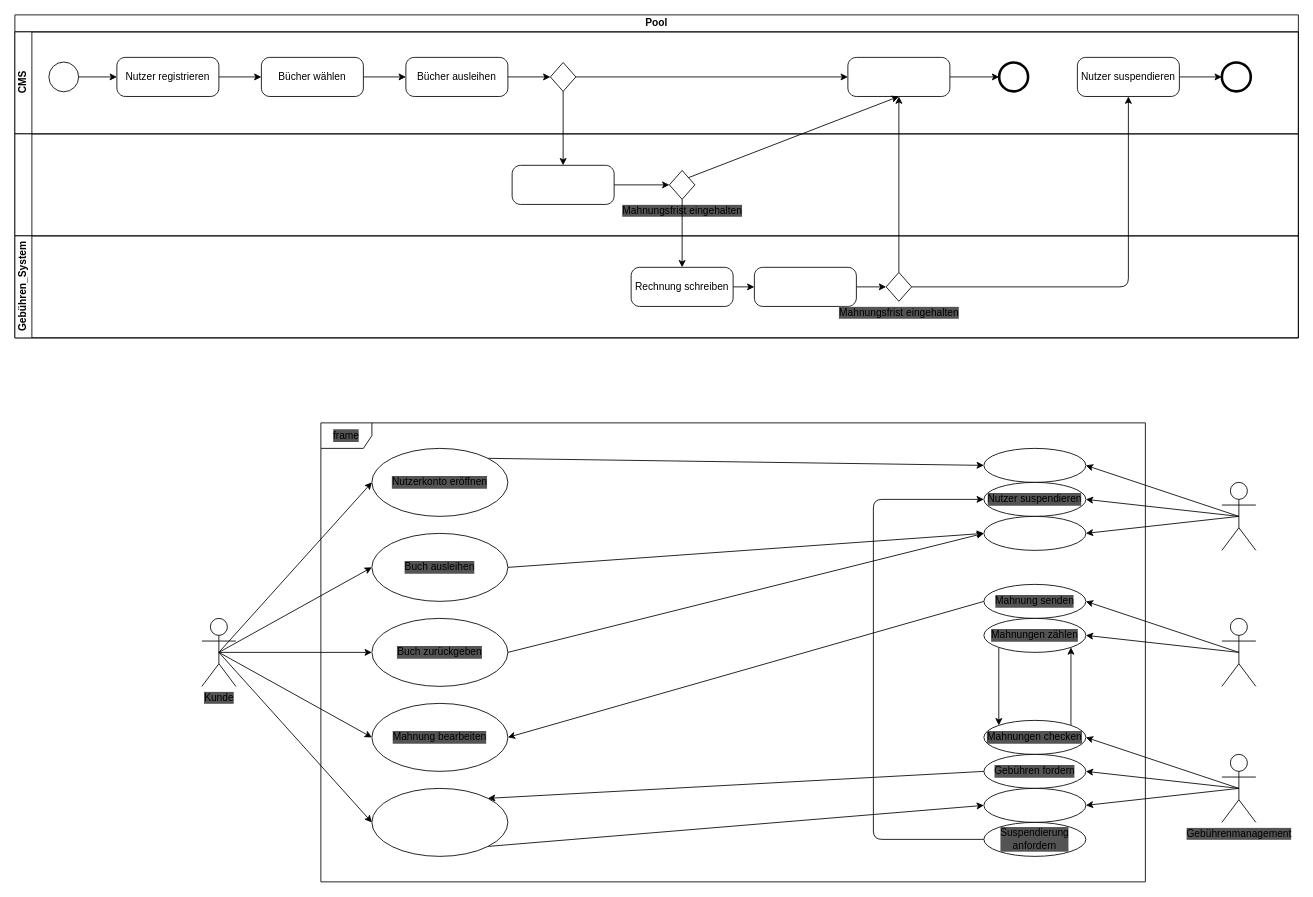
This 1313x897 diagram has some shape labels left out. The shapes that lost their labels are listed below. From the top down, each one's box as (x1, y1, x2, y2) in pixels, then its label:
(550, 62, 576, 91): Frist eingehalten
(847, 57, 950, 96): Bücher zurückgeben
(511, 164, 614, 204): Mahnung schicken
(14, 133, 1298, 236): Mahnung_System
(754, 266, 856, 306): Frist setzen
(983, 448, 1086, 482): Nutzer anlegen
(983, 516, 1086, 550): Bücher verwalten
(1221, 482, 1256, 550): Nutzermanagement
(1221, 618, 1256, 686): Mahnungsmanagement
(371, 788, 508, 856): Gebühren bearbeiten
(983, 788, 1086, 822): Stand tilgen
